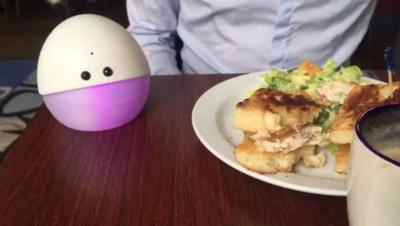mira_robot: (36, 13, 152, 133)
